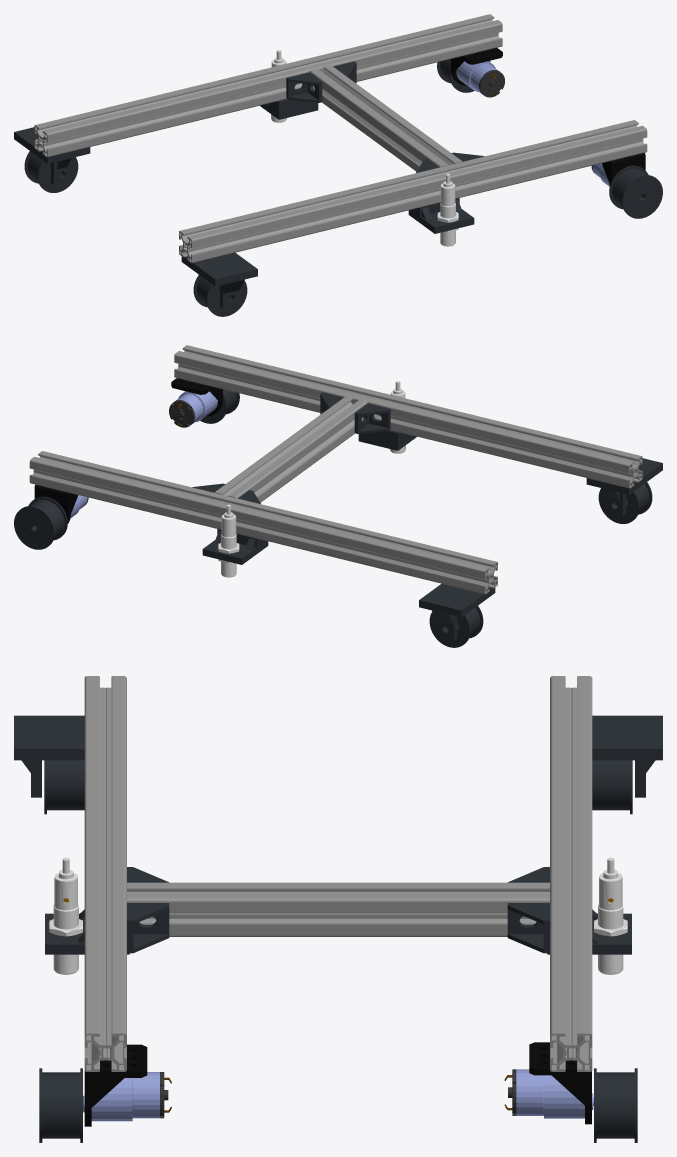
The model's file is cart.obj.
3 views of the same model, one above another, from view 1: azimuth 30°, elevation 25°; view 2: azimuth 150°, elevation 25°; view 3: azimuth 270°, elevation 25° (orthographic). The views are drawn at different scales.
Visible parts, largest first — view 1: LeftMainBeam_13, RightMainBeam_13, MiddleBeam_13, DriveWheel_1, IdlerBracket001_1, IdlerBracket_1, SensorBracket001_1, IdleWheel_0, IdleWheel001_0, 90Joint001_0, BALLUFF_BES_516_326_G_BO_C_PU_03_1_2, SensorBracket_0 (+3 smaller); view 2: RightMainBeam_13, LeftMainBeam_13, MiddleBeam_13, DriveWheel001_1, IdlerBracket_1, IdlerBracket001_1, SensorBracket_0, IdleWheel001_0, IdleWheel_0, 90Joint002_0, BALLUFF_BES_516_326_G_BO_C_PU_03_001_2, SensorBracket001_1 (+4 smaller); view 3: MiddleBeam_13, LeftMainBeam_13, RightMainBeam_13, IdlerBracket_1, IdlerBracket001_1, DriveWheel_1, DriveWheel001_1, IdleWheel_0, IdleWheel001_0, BALLUFF_BES_516_326_G_BO_C_PU_03_1_2, BALLUFF_BES_516_326_G_BO_C_PU_03_001_2, MM_JGB37_v001_8 (+9 smaller).
Boxes of the visible parts, box(x1,y1,x2,y2) form: LeftMainBeam_13: box(179, 120, 647, 263); RightMainBeam_13: box(34, 14, 502, 157); MiddleBeam_13: box(309, 65, 462, 171); DriveWheel_1: box(609, 165, 662, 218); IdlerBracket001_1: box(181, 252, 257, 308); IdlerBracket_1: box(14, 127, 90, 185); SensorBracket001_1: box(408, 198, 474, 233); IdleWheel_0: box(24, 151, 78, 192); IdleWheel001_0: box(193, 275, 247, 316); 90Joint001_0: box(286, 72, 322, 102); BALLUFF_BES_516_326_G_BO_C_PU_03_1_2: box(440, 173, 455, 246); SensorBracket_0: box(260, 99, 318, 119); RightMainBeam_13: box(29, 451, 497, 594); LeftMainBeam_13: box(174, 345, 642, 488); MiddleBeam_13: box(214, 396, 367, 502); DriveWheel001_1: box(14, 496, 67, 549); IdlerBracket_1: box(419, 583, 495, 639); IdlerBracket001_1: box(586, 458, 662, 516); SensorBracket_0: box(202, 529, 268, 564); IdleWheel001_0: box(598, 482, 652, 523); IdleWheel_0: box(429, 606, 483, 647); 90Joint002_0: box(354, 403, 390, 433); BALLUFF_BES_516_326_G_BO_C_PU_03_001_2: box(221, 504, 236, 577); SensorBracket001_1: box(358, 430, 416, 450); MiddleBeam_13: box(127, 882, 549, 936); LeftMainBeam_13: box(84, 676, 126, 1071); RightMainBeam_13: box(550, 676, 592, 1071); IdlerBracket_1: box(592, 715, 662, 797); IdlerBracket001_1: box(14, 715, 84, 797); DriveWheel_1: box(39, 1068, 82, 1142); DriveWheel001_1: box(594, 1068, 637, 1142); IdleWheel_0: box(592, 760, 632, 814); IdleWheel001_0: box(44, 760, 84, 814); BALLUFF_BES_516_326_G_BO_C_PU_03_1_2: box(53, 857, 78, 974); BALLUFF_BES_516_326_G_BO_C_PU_03_001_2: box(598, 857, 623, 974); MM_JGB37_v001_8: box(84, 1044, 147, 1126).
Size of the model in its own units: 0.6024 by 0.1046 by 0.46.
